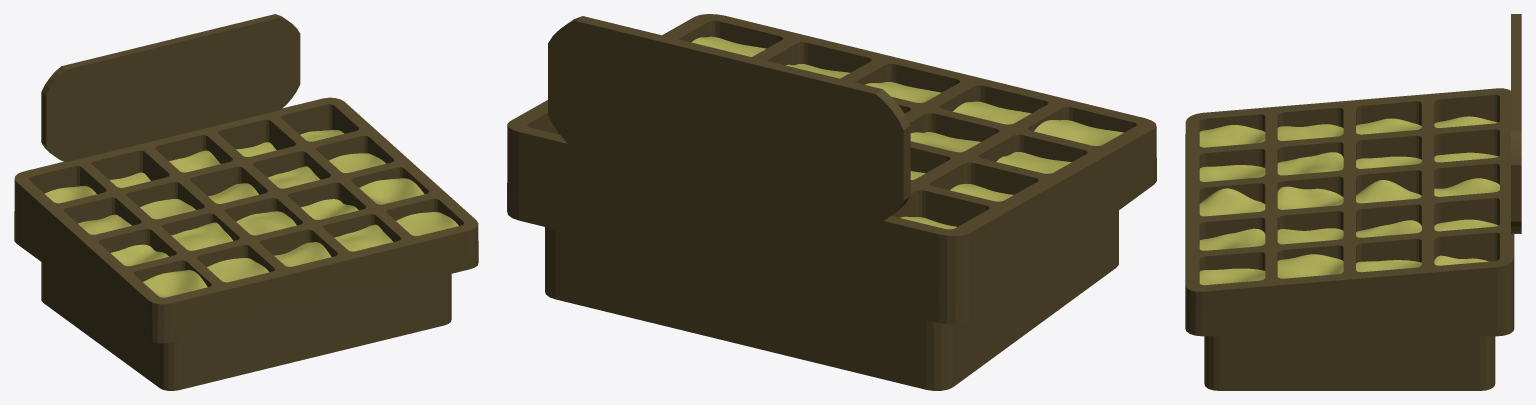
Rendered from tavuk_tezgahi_4.fbx.
3 views of the same model, side by side, from view 1: azimuth 30°, elevation 25°; view 2: azimuth 150°, elevation 25°; view 3: azimuth 270°, elevation 25° (orthographic). The views are drawn at different scales.
Parts seen in each view (by area): view 1: Plane.005, Cube.007, Plane.008, Plane.002; view 2: Plane.005, Cube.007, Plane.008, Plane.002; view 3: Plane.005, Plane.002, Plane.008, Cube.007.
Part boxes in pixels (box(x1,y1,x2,y2)): Plane.005: box(14, 97, 478, 343); Cube.007: box(41, 14, 300, 162); Plane.008: box(41, 262, 451, 390); Plane.002: box(44, 130, 458, 297); Plane.005: box(507, 14, 1156, 324); Cube.007: box(548, 16, 910, 223); Plane.008: box(545, 210, 1118, 390); Plane.002: box(691, 36, 1123, 229); Plane.005: box(1185, 88, 1514, 336); Plane.002: box(1199, 116, 1499, 285); Plane.008: box(1204, 336, 1495, 390); Cube.007: box(1511, 14, 1521, 233).
Size of the model in its own units: 324 by 202 by 258.
